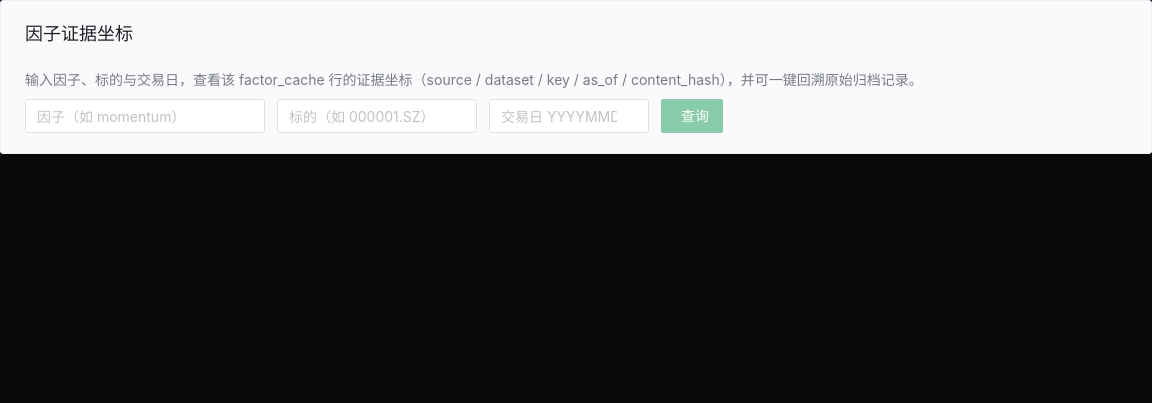
Test case: FactorCitation › renders the archived five-tuple behind a factor row
Type "momentum" into the field with placeholder "因子（如 momentum）".
click(135, 116); type("momentum")  # box [37,99,233,133]
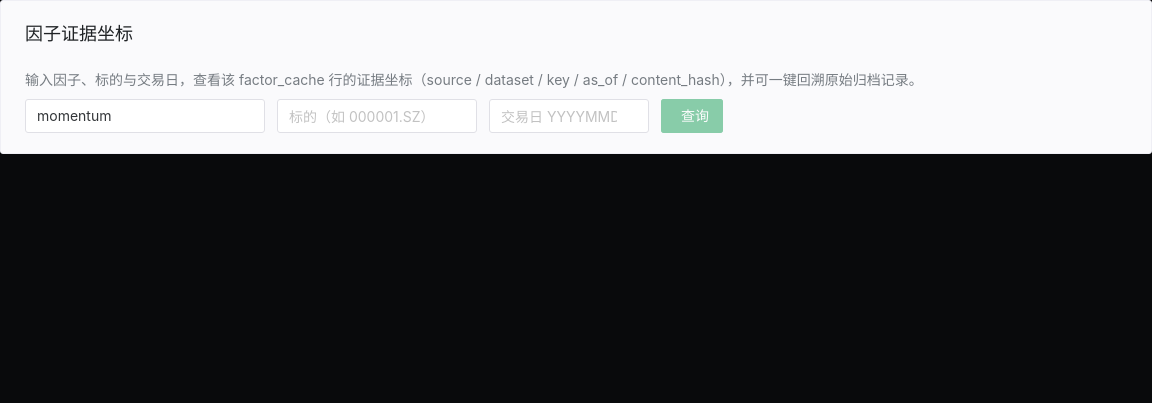
Type "000001.SZ" into the field with placeholder "标的（如 000001.SZ）".
click(367, 116); type("000001.SZ")  # box [289,99,445,133]
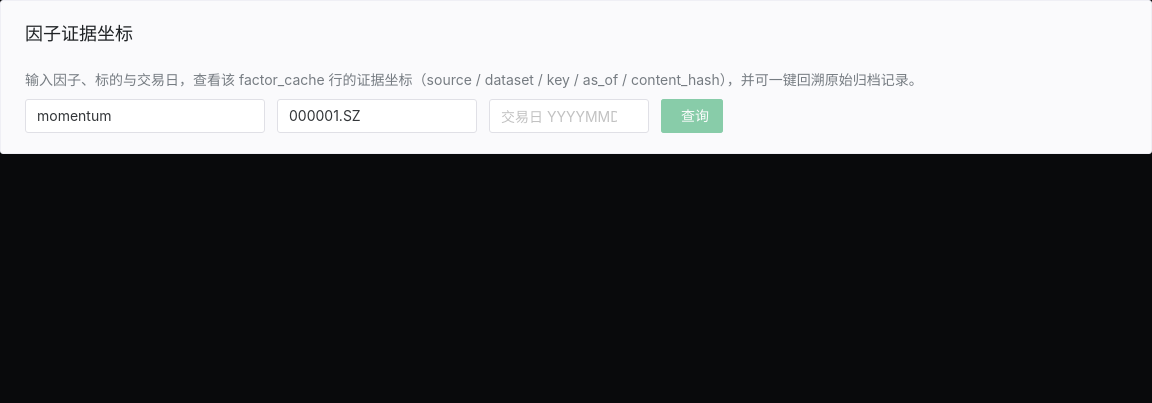
Type "20260105" into the field with placeholder "交易日 YYYYMMDD".
click(559, 116); type("20260105")  # box [501,99,617,133]
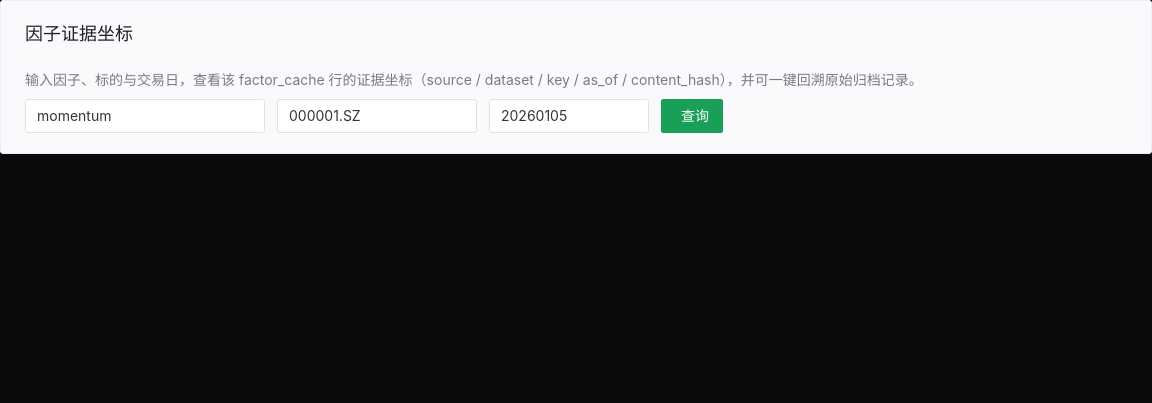
Click the button "查询".
click(692, 116)  # box [661,99,723,133]
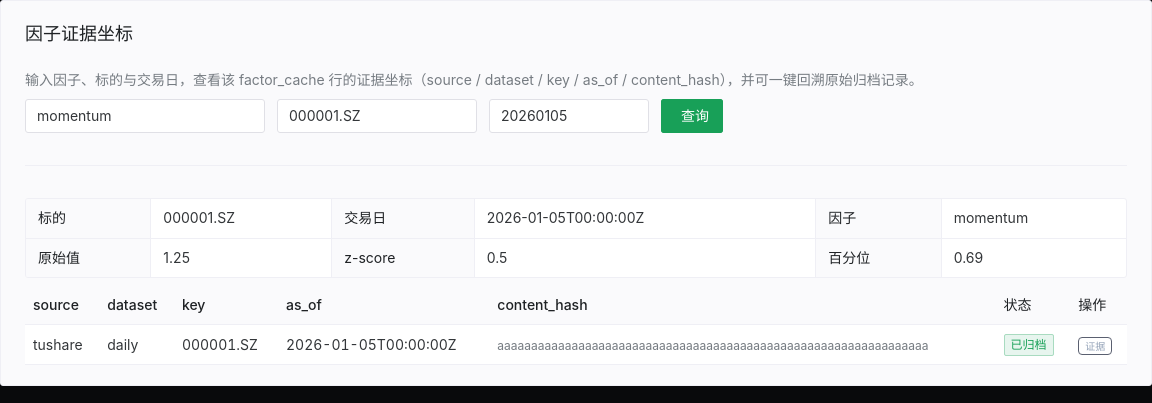
Result: the text "tushare" is shown at [25,325,99,365]
Result: the text "daily" is shown at [99,325,174,365]
Result: the text "000001.SZ" is shown at [151,199,332,239]
